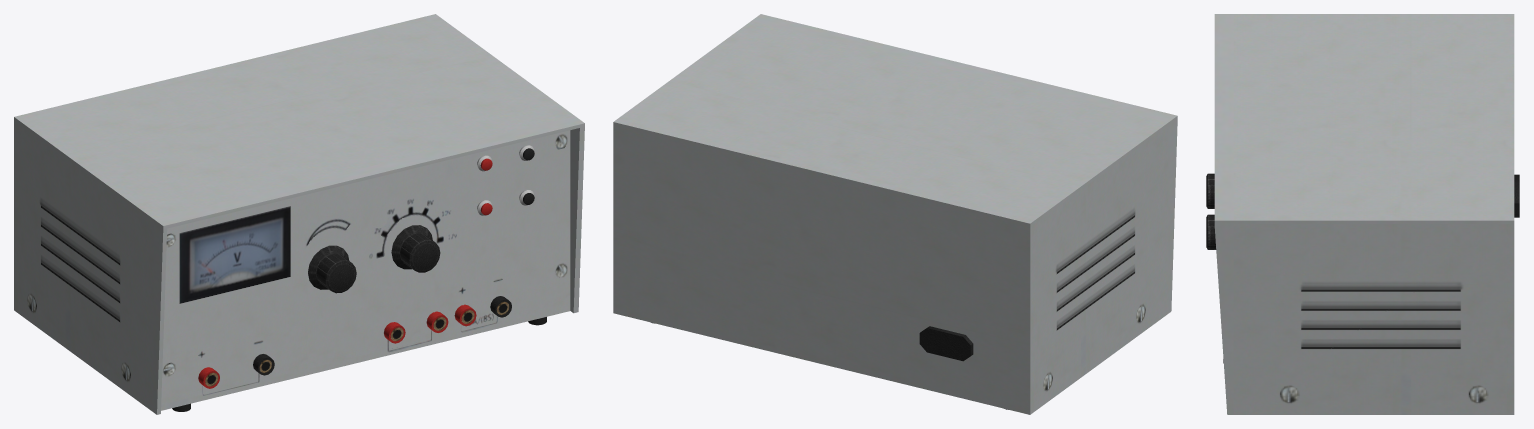
Rendered from Electro06.FBX.
The picture shows the model from 3 angles, left to right: view 1: azimuth 30°, elevation 25°; view 2: azimuth 150°, elevation 25°; view 3: azimuth 270°, elevation 25°; orthographic projection.
Parts seen in each view (by area): view 1: Electro06; view 2: Electro06; view 3: Electro06.
Part boxes in pixels (box(x1,y1,x2,y2)): Electro06: box(14, 14, 584, 414); Electro06: box(613, 14, 1177, 414); Electro06: box(1206, 14, 1519, 414).
Size of the model in its own units: 123 by 56.74 by 78.73.
